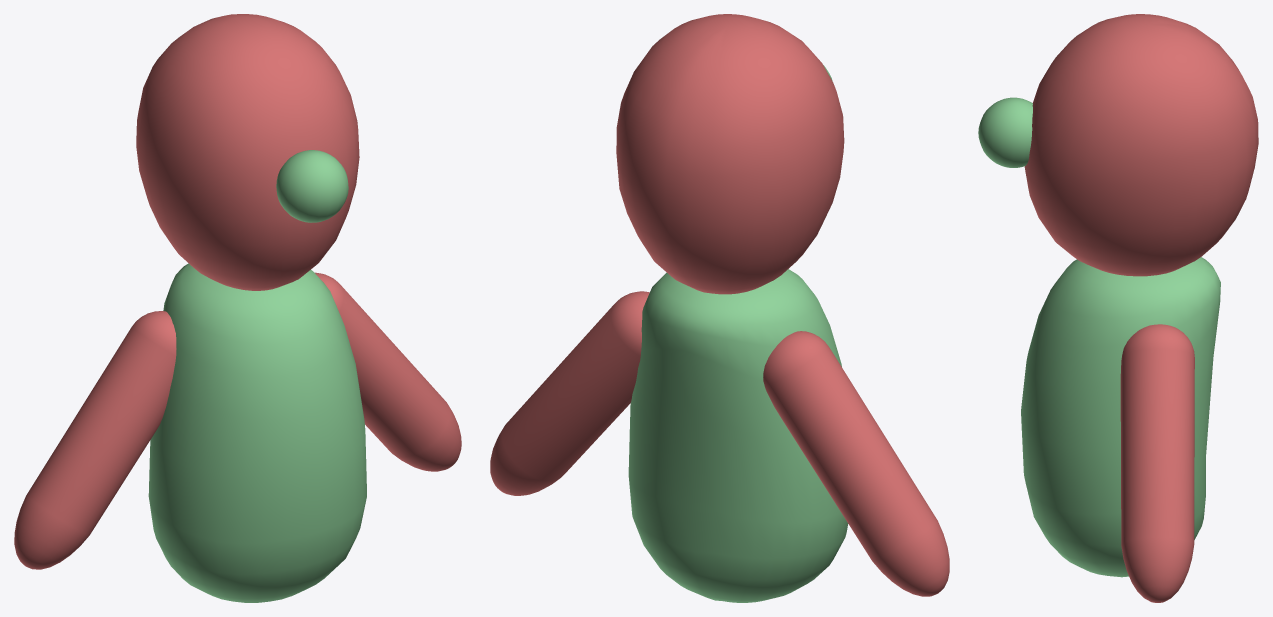
The model's file is SM_Player1RED.fbx.
3 renders of one model, left to right at view 1: azimuth 30°, elevation 25°; view 2: azimuth 150°, elevation 25°; view 3: azimuth 270°, elevation 25°, orthographic. The views are drawn at different scales.
Visible parts, largest first — view 1: SK_CharacterBase.001, Naso.001; view 2: SK_CharacterBase.001; view 3: SK_CharacterBase.001, Naso.001.
Part boxes in pixels (x1=…): SK_CharacterBase.001: x1=14, y1=14, x2=461, y2=602; Naso.001: x1=276, y1=150, x2=348, y2=222; SK_CharacterBase.001: x1=490, y1=14, x2=949, y2=602; SK_CharacterBase.001: x1=1021, y1=14, x2=1258, y2=602; Naso.001: x1=978, y1=97, x2=1032, y2=167.
Size of the model in its own units: 115 by 139 by 65.52.
